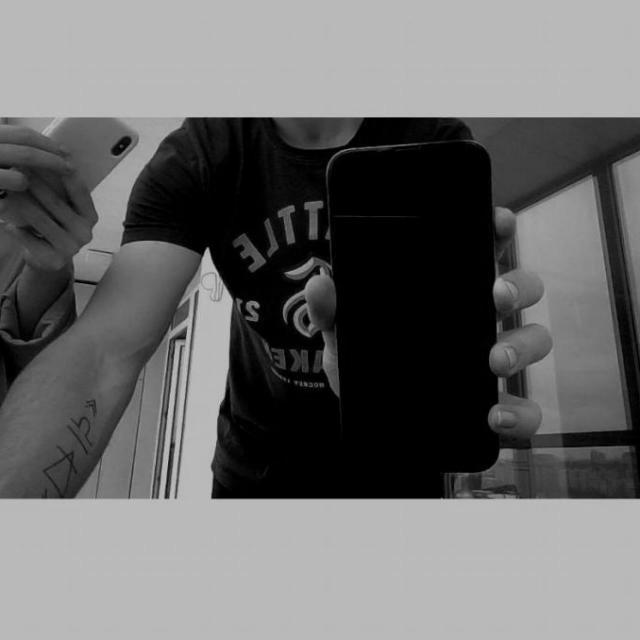fake: (320, 138, 504, 476)
